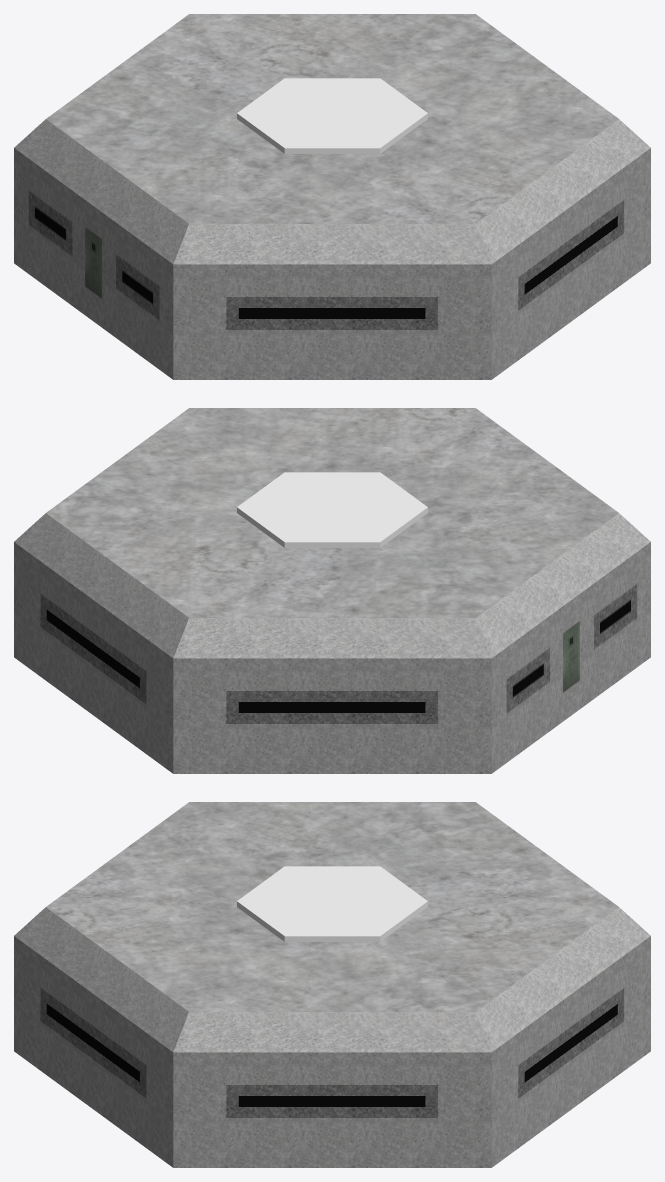
Rendered from Pillbox.glb.
3 views of the same model, one above another, from view 1: azimuth 30°, elevation 25°; view 2: azimuth 150°, elevation 25°; view 3: azimuth 270°, elevation 25° (orthographic).
Visible parts, largest first — view 1: Cone; view 2: Cone; view 3: Cone.
Part boxes in pixels (bbox=[...]): Cone: bbox=[14, 14, 650, 379]; Cone: bbox=[14, 408, 650, 773]; Cone: bbox=[14, 802, 650, 1167].
Bounding box in the file's own units: 17.32 × 5.2 × 20.
Materials: 1 (1 with a texture image).
